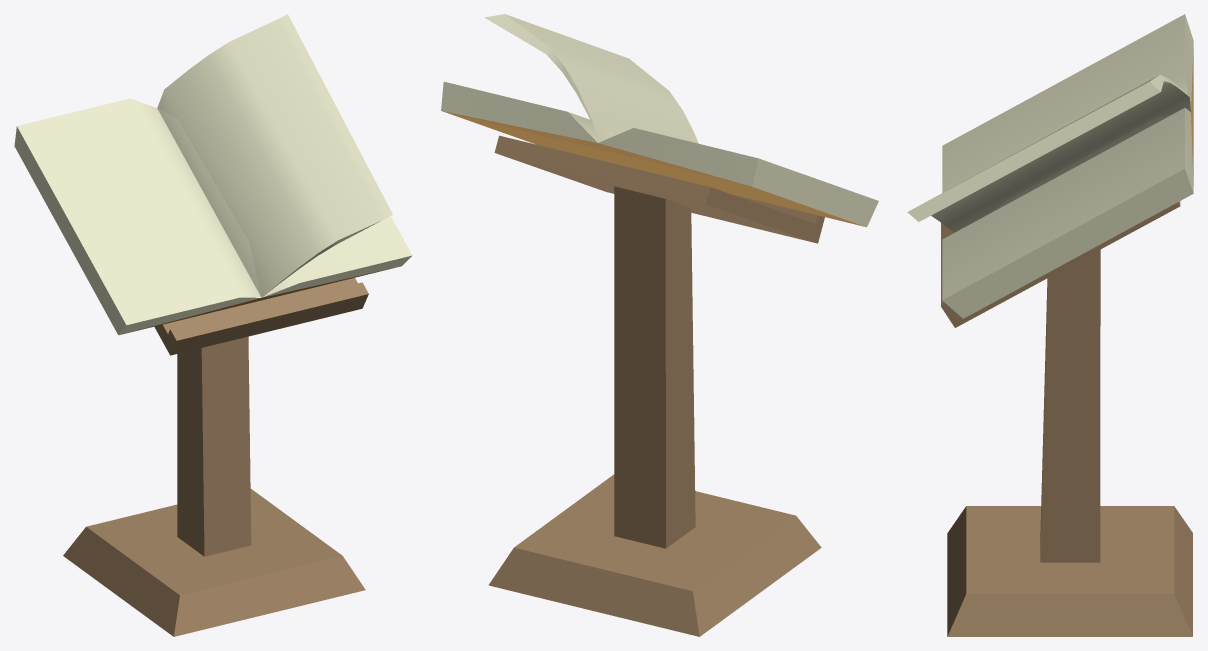
File: book.fbx
The picture shows the model from 3 angles, left to right: view 1: azimuth 30°, elevation 25°; view 2: azimuth 150°, elevation 25°; view 3: azimuth 270°, elevation 25°; orthographic projection. The views are drawn at different scales.
Parts seen in each view (by area): view 1: pCube6; view 2: pCube6; view 3: pCube6.
Part boxes in pixels (x1,y1,x2,y2): pCube6: (14,14,412,636); pCube6: (441,14,878,636); pCube6: (907,14,1193,636).
Bounding box in the file's own units: 0.4068 × 0.6846 × 0.3186.
